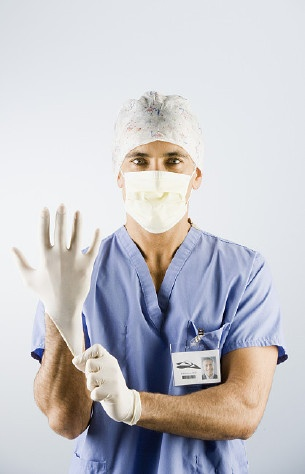Mask: (120, 145, 206, 233)
